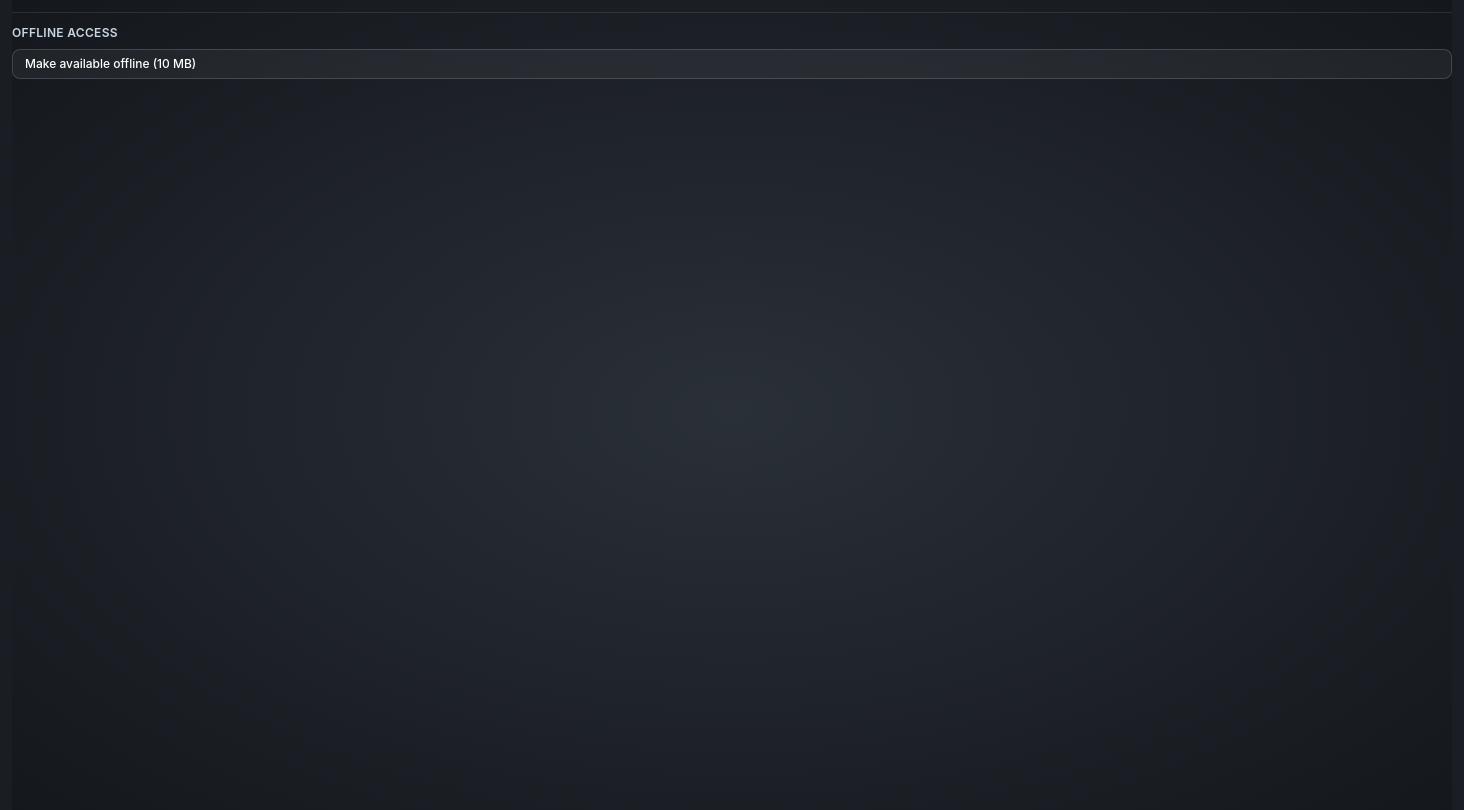
OfflineDownload › displays quota error message when storage quota is exceeded
The width and height of the screenshot is (1464, 810).
Click the button "Make available offline (10 MB)" at (111, 64), box [12,49,1452,79]
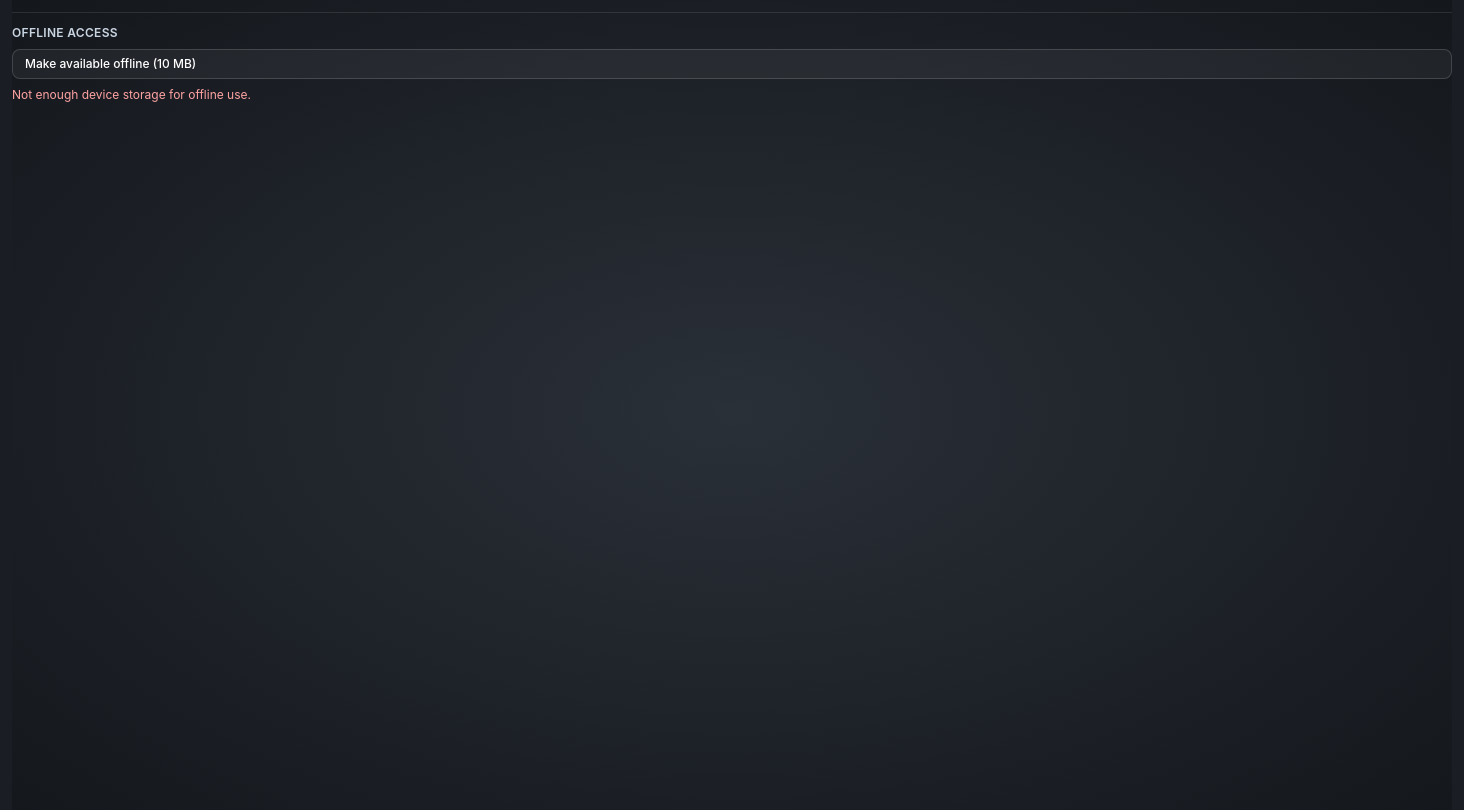
Expected: the text "Not enough device storage for offline use." is shown, [12,87,251,102]
